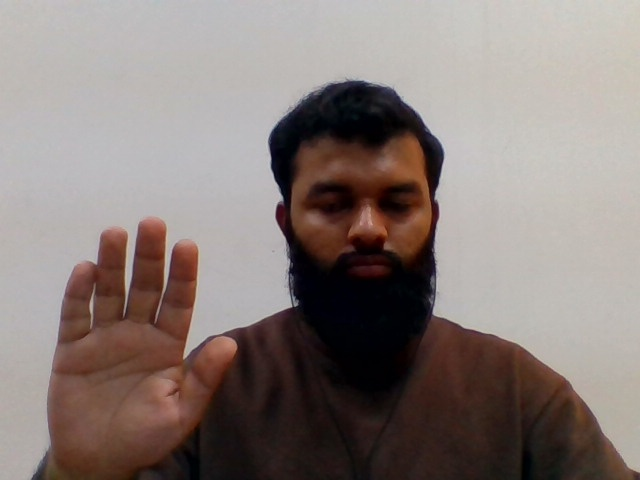Hello: (33, 212, 255, 480)
